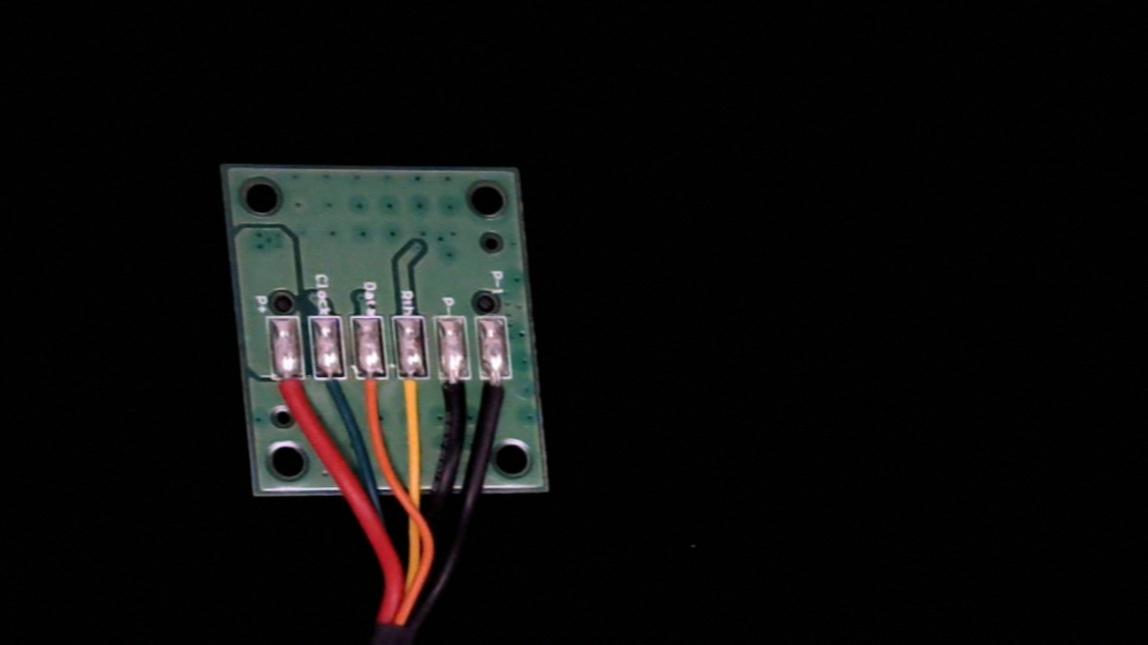Black: (437, 363, 473, 426)
Black1: (480, 364, 516, 423)
Green: (314, 364, 353, 424)
Orange: (352, 364, 394, 424)
Red: (274, 365, 310, 430)
Yellow: (395, 363, 434, 432)
